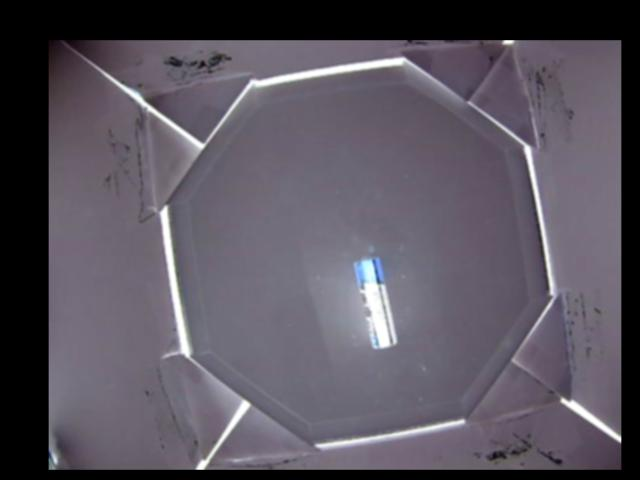Battery: (357, 256, 390, 350)
